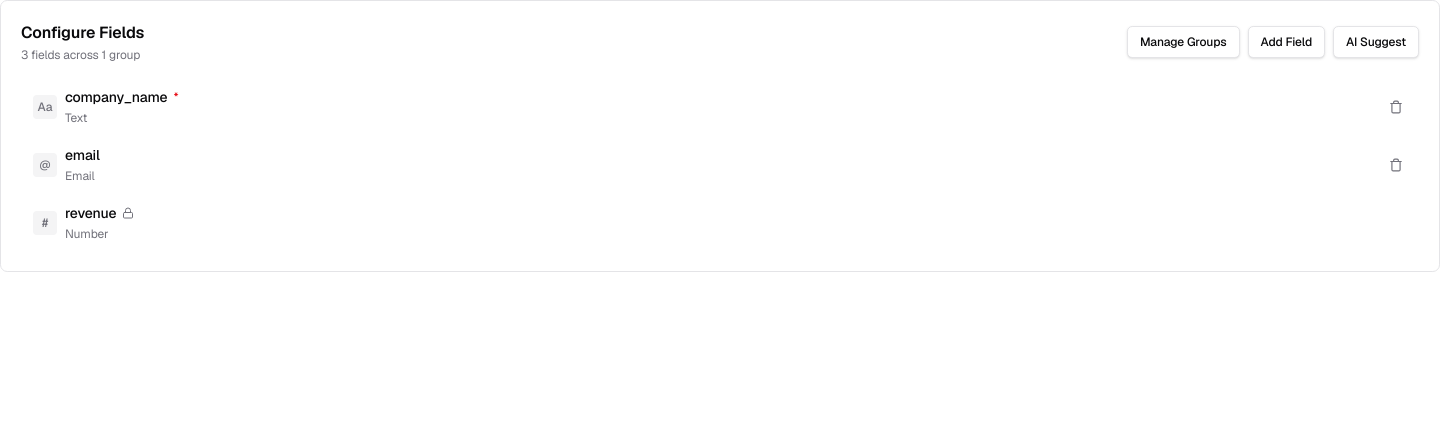
Test: InlineFieldManager › action buttons › shows Add Field form on button click
The width and height of the screenshot is (1440, 427).
Step 1. Click the button with aria-label "Add a new field" → {"x": 1286, "y": 42}, box [1248, 26, 1325, 58]
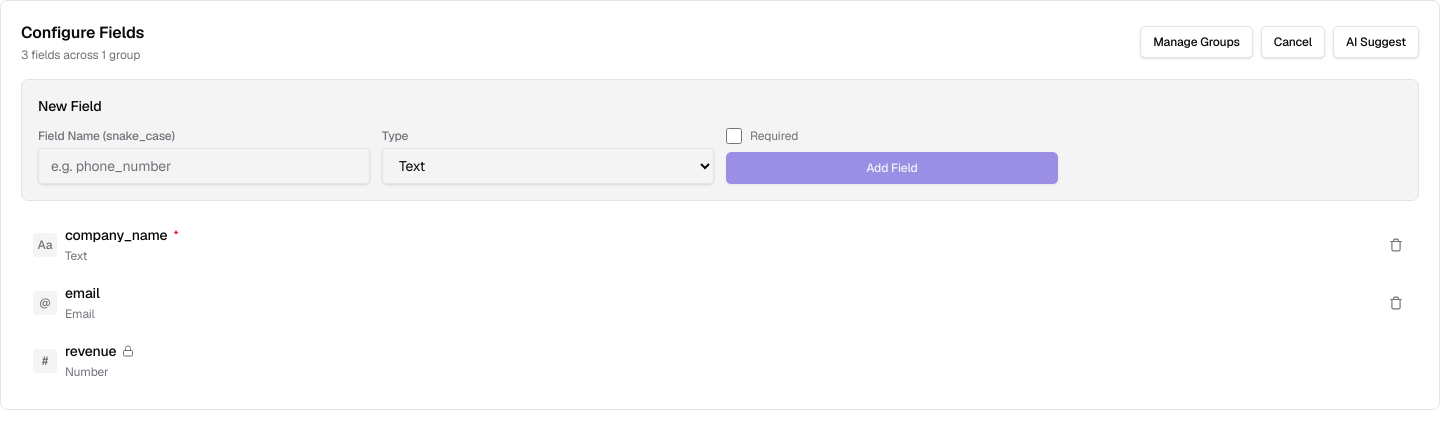
Result: the heading "New Field" is shown at [38, 97, 102, 115]
Result: the field labelled "Field Name (snake_case)" is shown at [38, 148, 370, 184]
